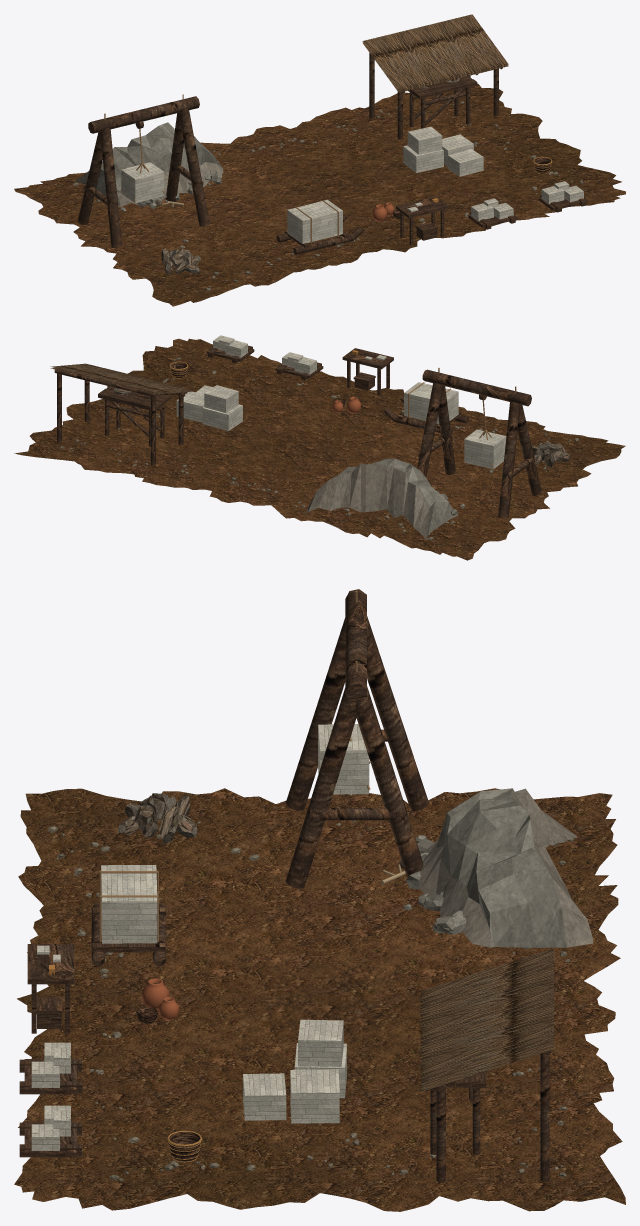
File: mason@1.glb
3 renders of one model, top to bottom at view 1: azimuth 30°, elevation 25°; view 2: azimuth 150°, elevation 25°; view 3: azimuth 270°, elevation 25°, orthographic. The views are drawn at different scales.
Visible parts, largest first — view 1: part_0, part_4, part_6, part_7, part_1, part_3; view 2: part_0, part_4, part_1, part_6, part_7, part_3, part_11; view 3: part_0, part_4, part_1, part_6, part_7, part_3, part_8, part_11.
Boxes of the visible parts, box(x1,y1,x2,y2) form: part_0: box(14, 83, 625, 306); part_4: box(77, 53, 587, 254); part_6: box(121, 126, 583, 243); part_7: box(362, 14, 508, 92); part_1: box(73, 93, 583, 291); part_3: box(155, 78, 460, 274); part_0: box(14, 338, 625, 560); part_4: box(54, 345, 541, 518); part_1: box(59, 357, 578, 540); part_6: box(176, 335, 506, 469); part_7: box(50, 363, 192, 394); part_3: box(113, 388, 570, 493); part_11: box(332, 396, 361, 413); part_0: box(14, 788, 625, 1211); part_4: box(19, 589, 551, 1181); part_1: box(48, 788, 593, 1181); part_6: box(31, 724, 369, 1150); part_7: box(420, 948, 553, 1091); part_3: box(117, 793, 404, 868); part_8: box(136, 1006, 200, 1161); part_11: box(141, 978, 179, 1020).
Bounding box in the file's own units: 10.19 × 2.53 × 6.19.
12 materials, 7 textured.
